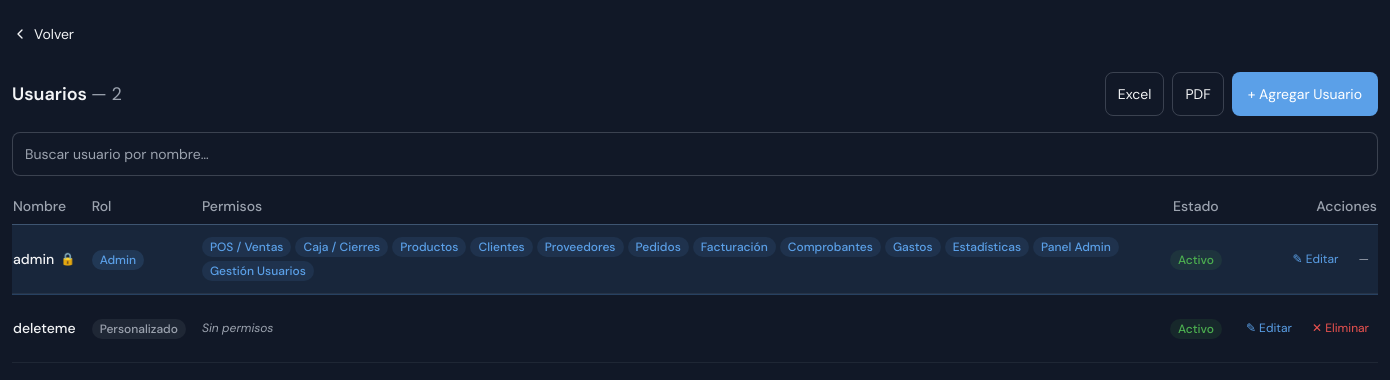
Test case: UserManagementPage › deletes a non-admin user
The width and height of the screenshot is (1390, 380).
Check: the text "admin" is shown, box [13,250,54,268]
Click the button with aria-label "eliminar deleteme": (1340, 328) [1304,306,1377,350]
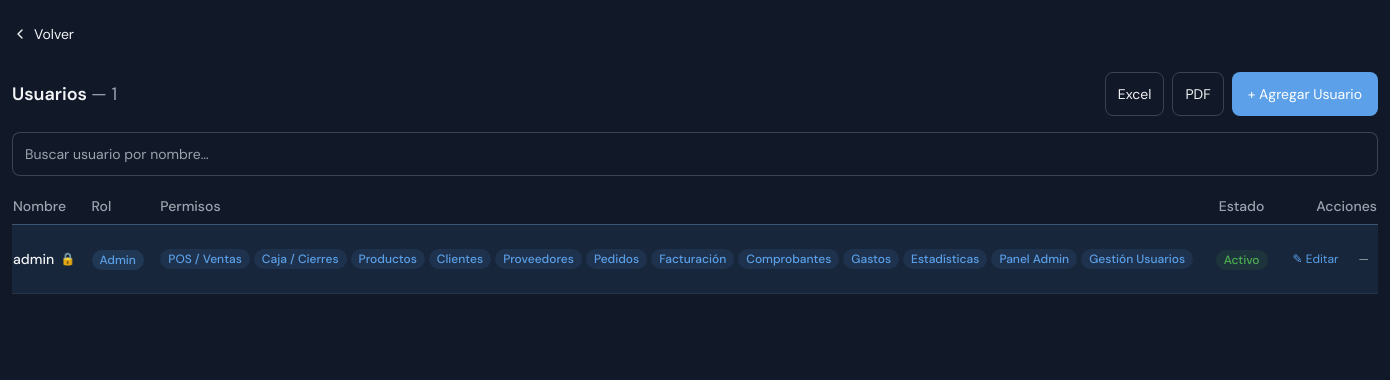
Check: the text "deleteme" is not shown
